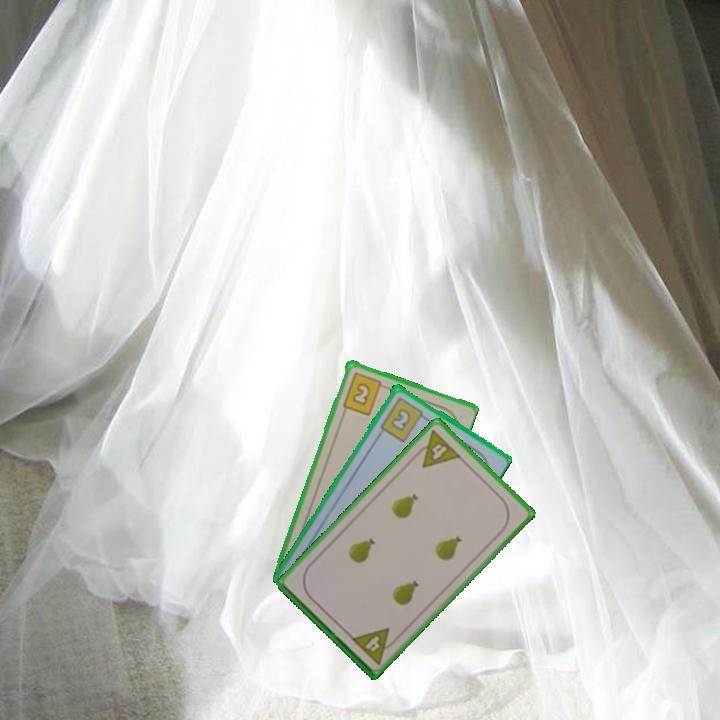2b: (376, 393, 430, 445), (339, 368, 390, 418)
4p: (409, 426, 464, 471), (347, 624, 401, 667)
